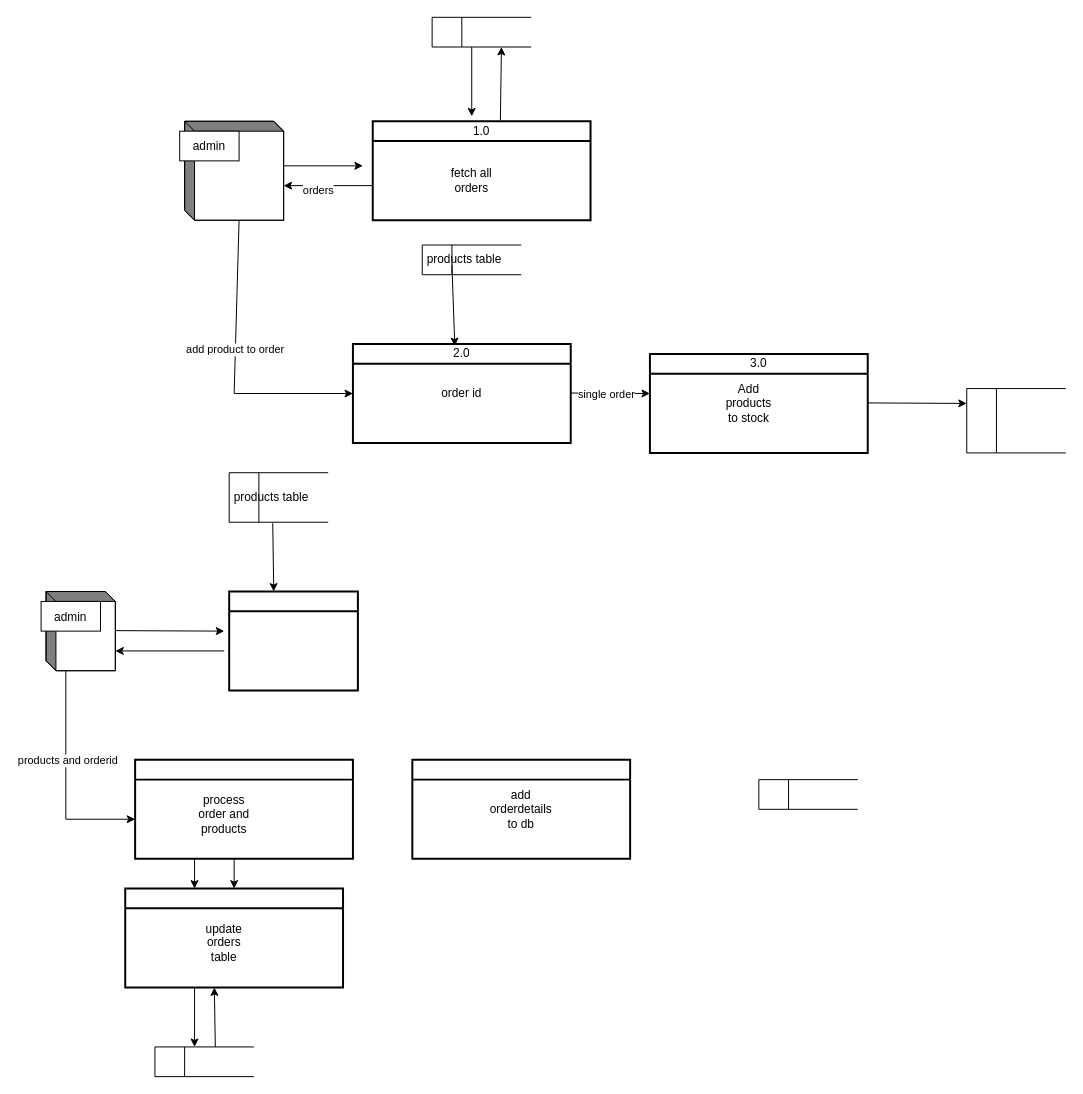
This 1083x1094 diagram has some shape labels left out. Here are the shapes that lost their labels. From the top down, the box of each, then its label:
(431, 16, 531, 47): Orders table
(966, 388, 1066, 453): stock db
(228, 590, 358, 691): fetch products
(758, 779, 858, 809): order details
